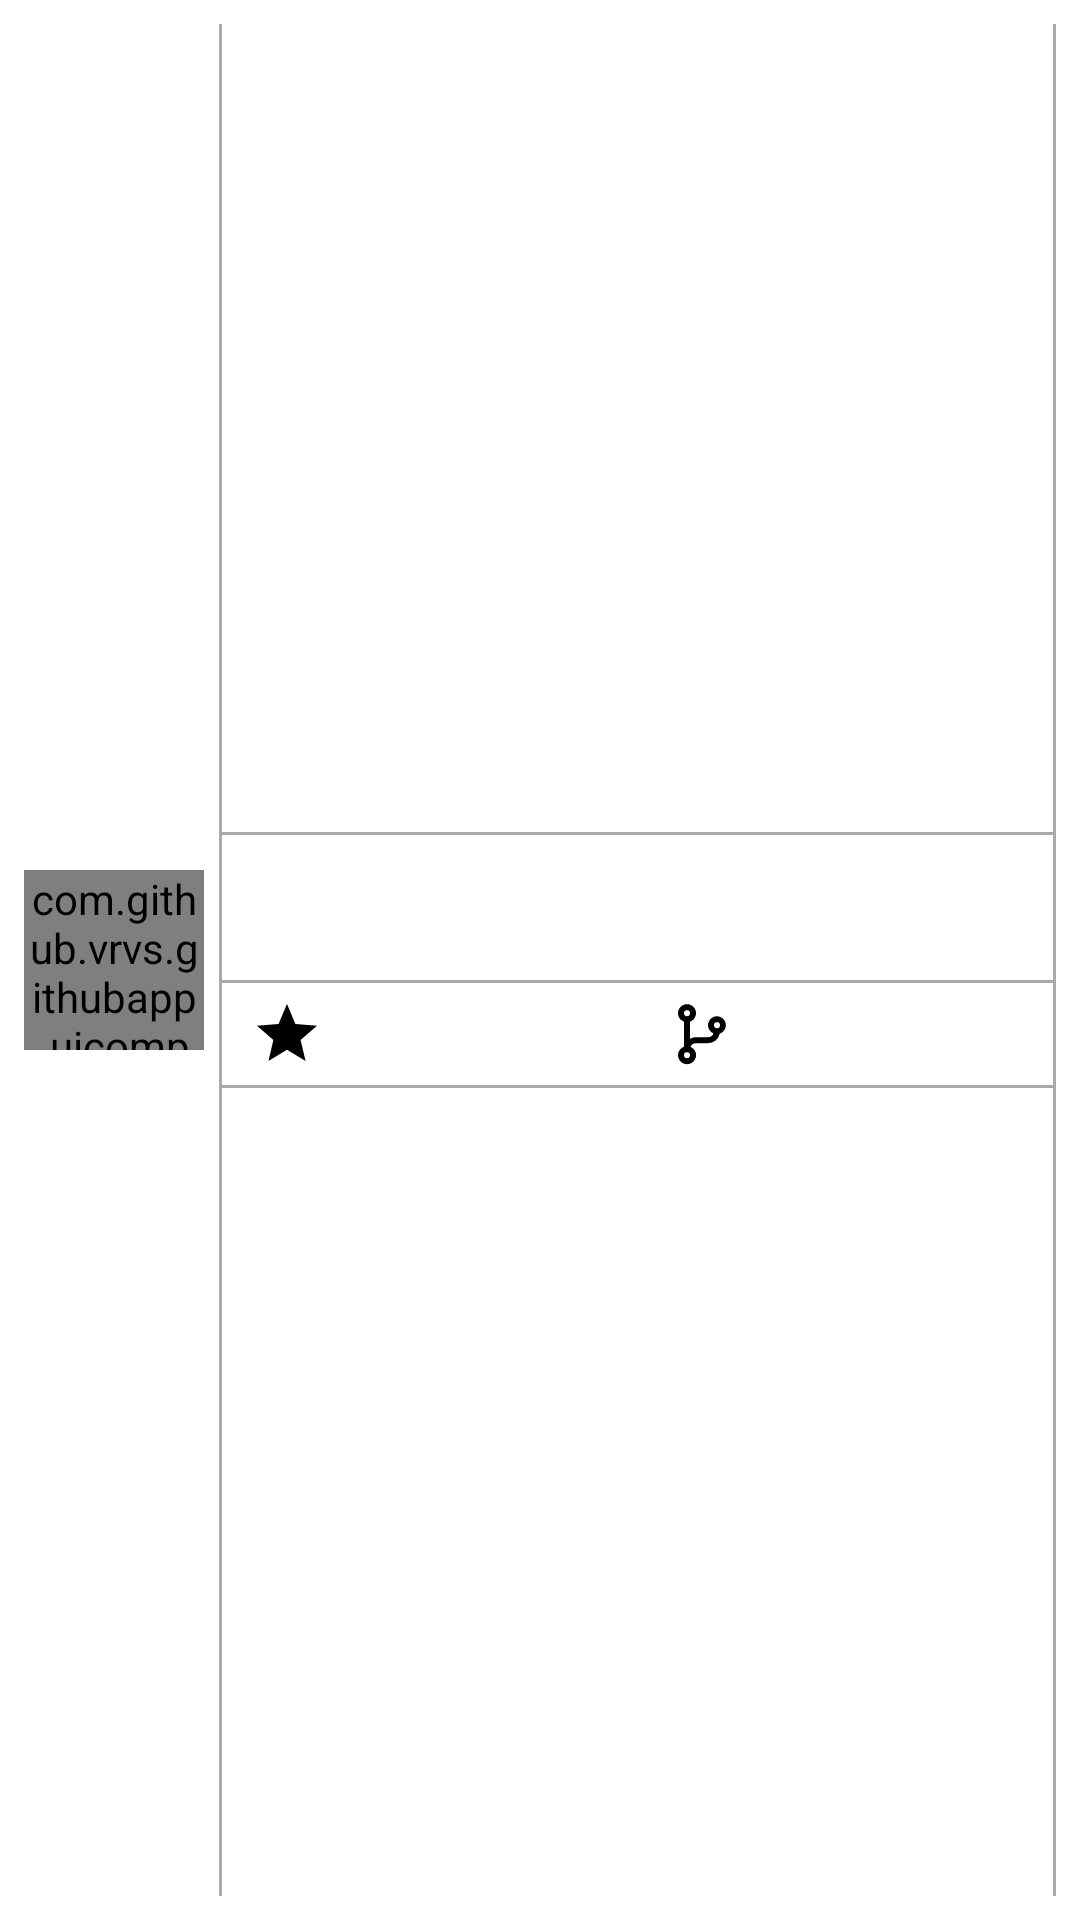

Named icons in this screenshot (1080px×1920px) and their centers, [x,y]:
code fork: [702,1034]
star: [287,1032]
